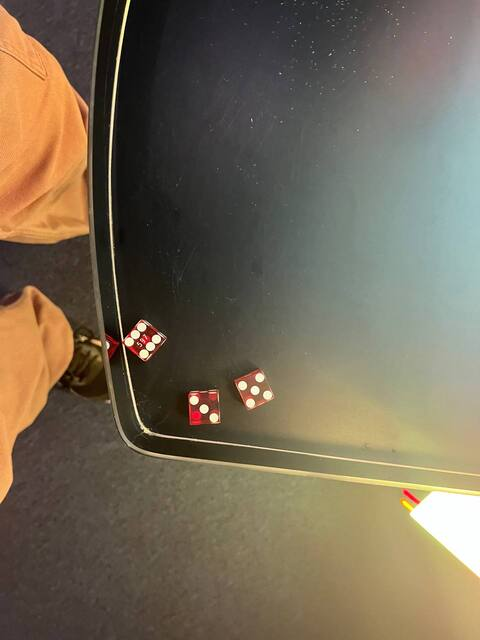five: (231, 368, 276, 410)
six: (120, 318, 168, 362)
three: (183, 390, 224, 429)
